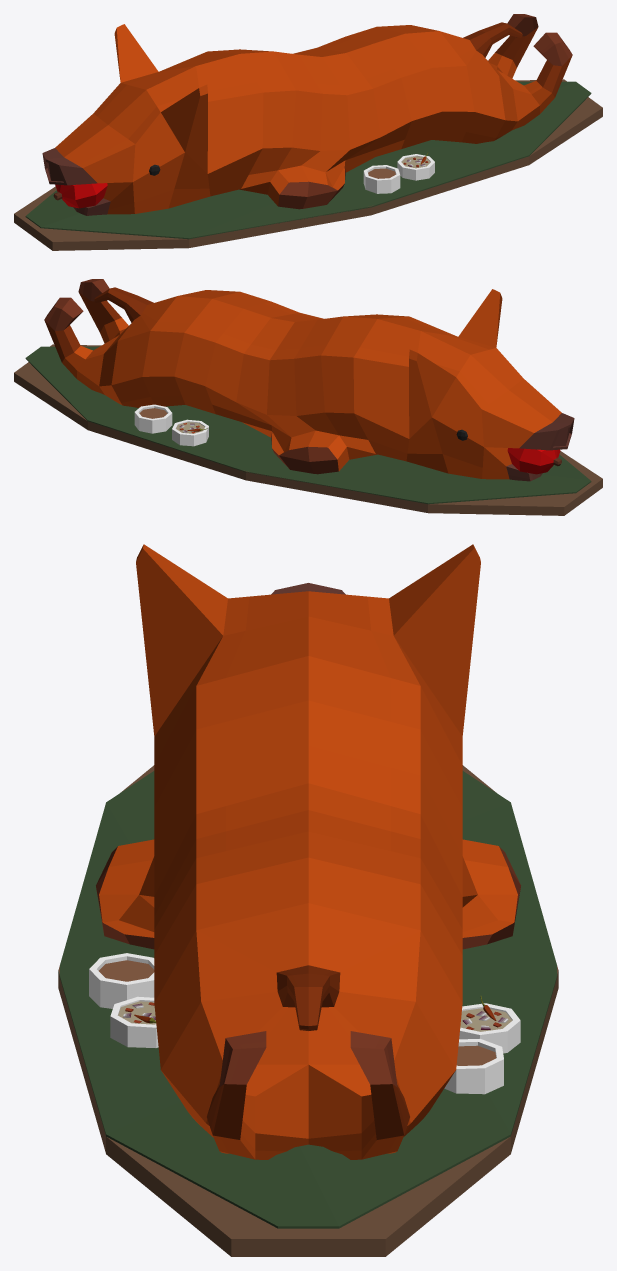
Rendered from FINAL_Lechon Manila.fbx.
3 renders of one model, top to bottom at view 1: azimuth 30°, elevation 25°; view 2: azimuth 150°, elevation 25°; view 3: azimuth 270°, elevation 25°, orthographic. The views are drawn at different scales.
Parts seen in each view (by area): view 1: Lechon Manila; view 2: Lechon Manila; view 3: Lechon Manila.
Part boxes in pixels (x1=…): Lechon Manila: x1=14, y1=14, x2=602, y2=250; Lechon Manila: x1=14, y1=279, x2=602, y2=515; Lechon Manila: x1=58, y1=544, x2=558, y2=1256.
Bounding box in the file's own units: 306 × 120 × 79.79.
